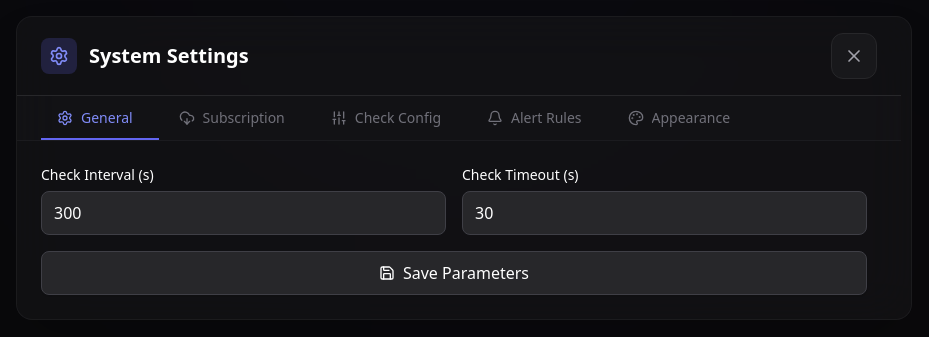
Test: Tab State Management › should mark tabs with unsaved changes
Expected: the panel is shown, [41,165,867,295]
# Find the interval input and change its value
Replace the text in the number field labelled "Check Interval (s)" with "500" at (244, 213), box [41,191,446,235]
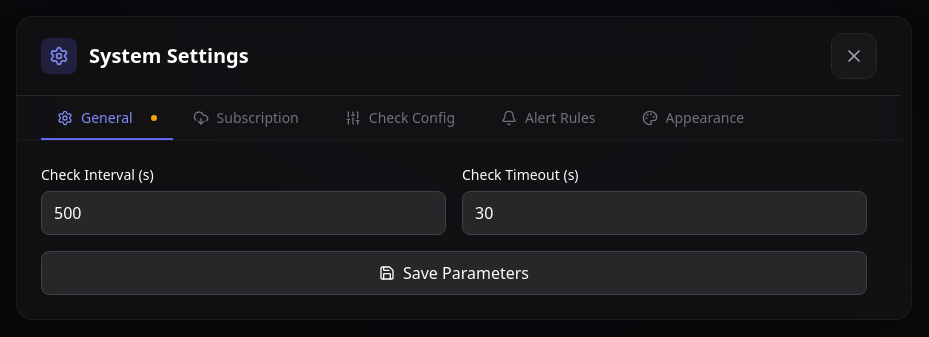
Expected: the element titled "Unsaved changes" is shown, [151,115,157,121]
